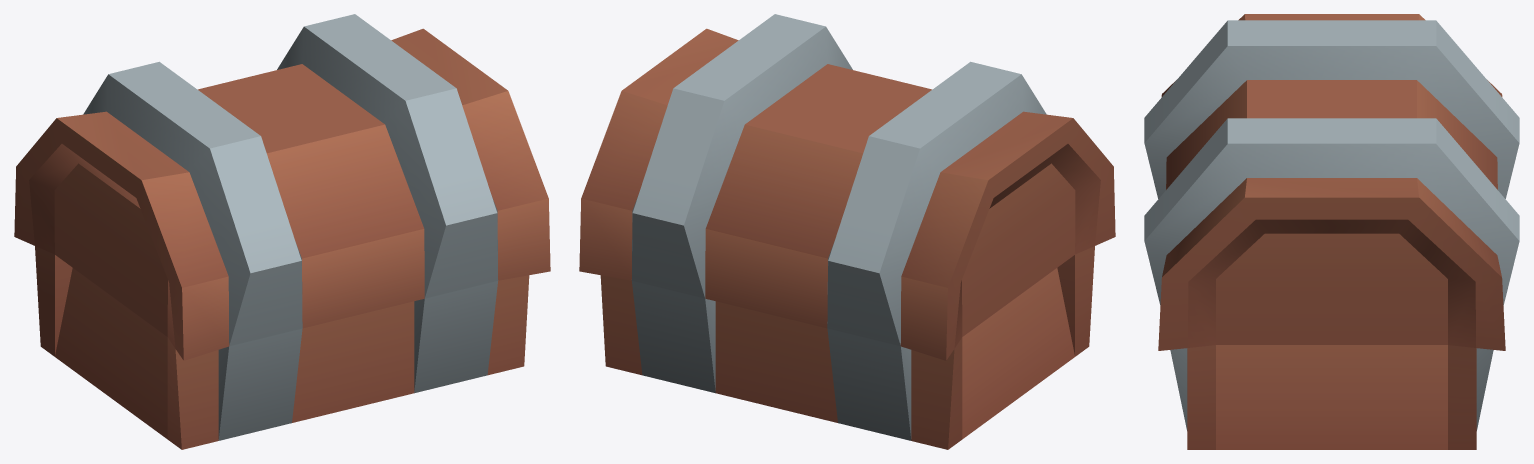
The model's file is trunk_small_C.glb.
3 views of the same model, side by side, from view 1: azimuth 30°, elevation 25°; view 2: azimuth 150°, elevation 25°; view 3: azimuth 270°, elevation 25° (orthographic). The views are drawn at different scales.
Parts seen in each view (by area): view 1: trunk_small_C; view 2: trunk_small_C; view 3: trunk_small_C.
Boxes of the visible parts, bbox=[...] form: trunk_small_C: bbox=[14, 14, 550, 449]; trunk_small_C: bbox=[579, 14, 1115, 449]; trunk_small_C: bbox=[1144, 14, 1519, 449].
Size of the model in its own units: 0.6754 by 0.4843 by 0.5834.
1 material, 1 textured.
